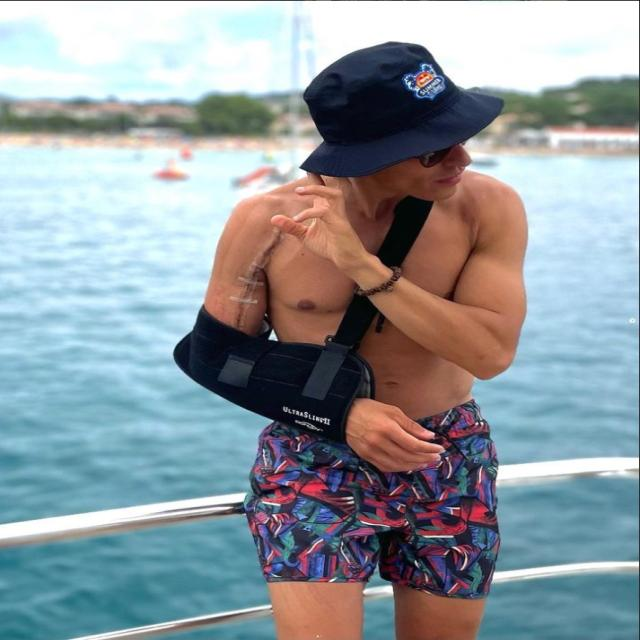illegal_helmet: (292, 35, 511, 207)
